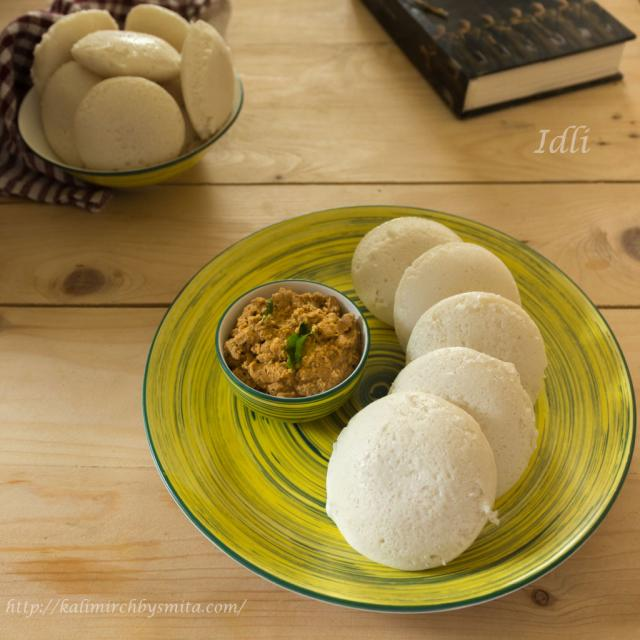IDLI: (26, 3, 235, 170), (322, 394, 501, 574), (416, 344, 537, 495), (345, 214, 476, 321), (411, 292, 546, 392), (392, 245, 522, 339), (390, 357, 470, 412)
